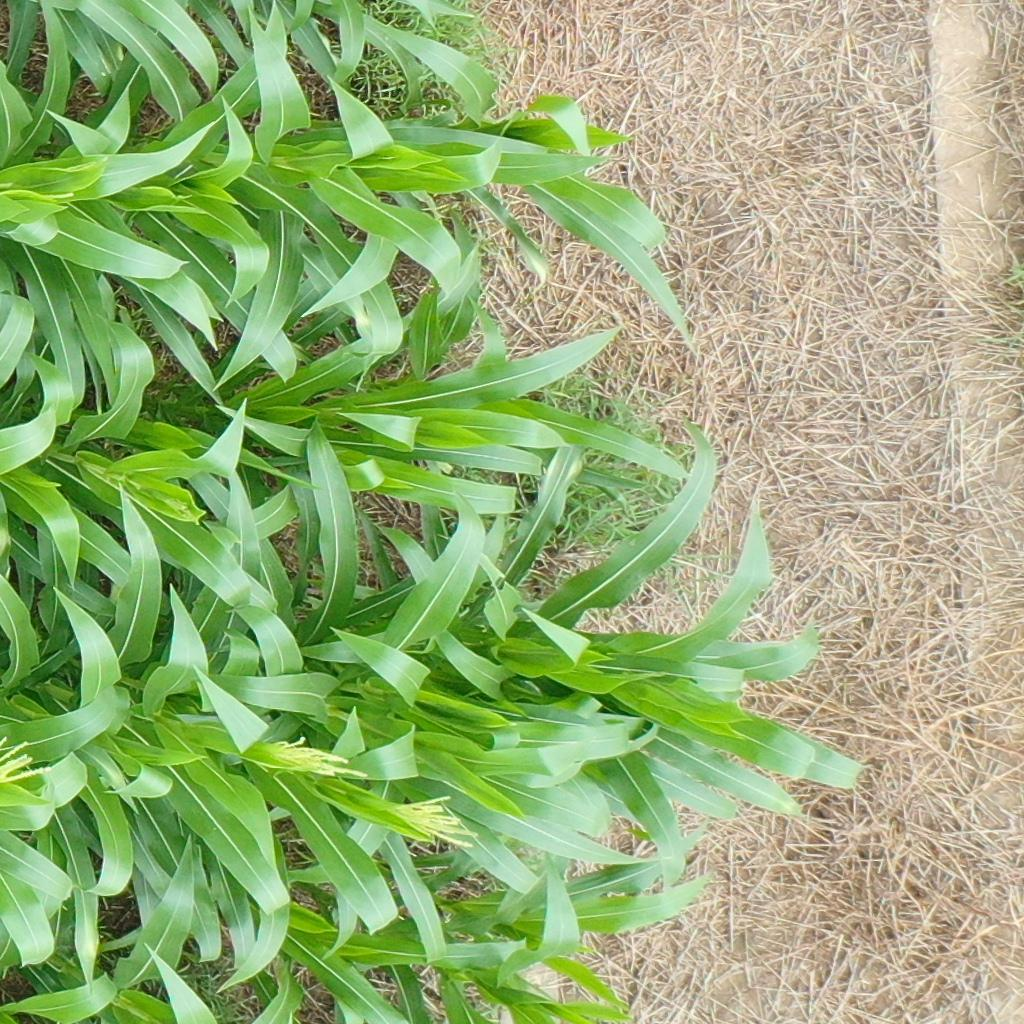Tassel: (395, 790, 485, 855), (254, 735, 371, 785), (1, 735, 55, 789), (157, 488, 201, 526)
